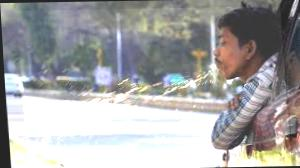spitting: (15, 5, 293, 167)
